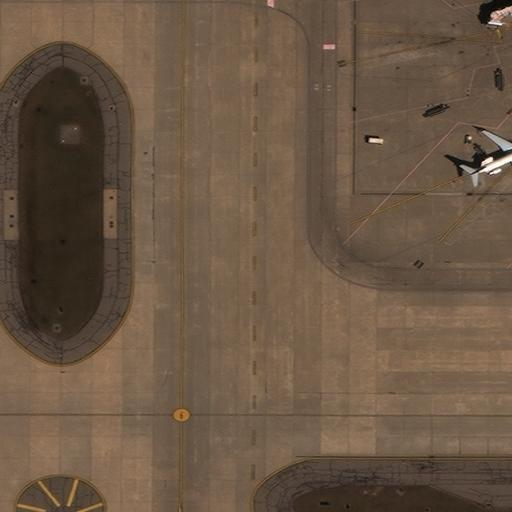Medium Civil Transport: (469, 129, 512, 184)
